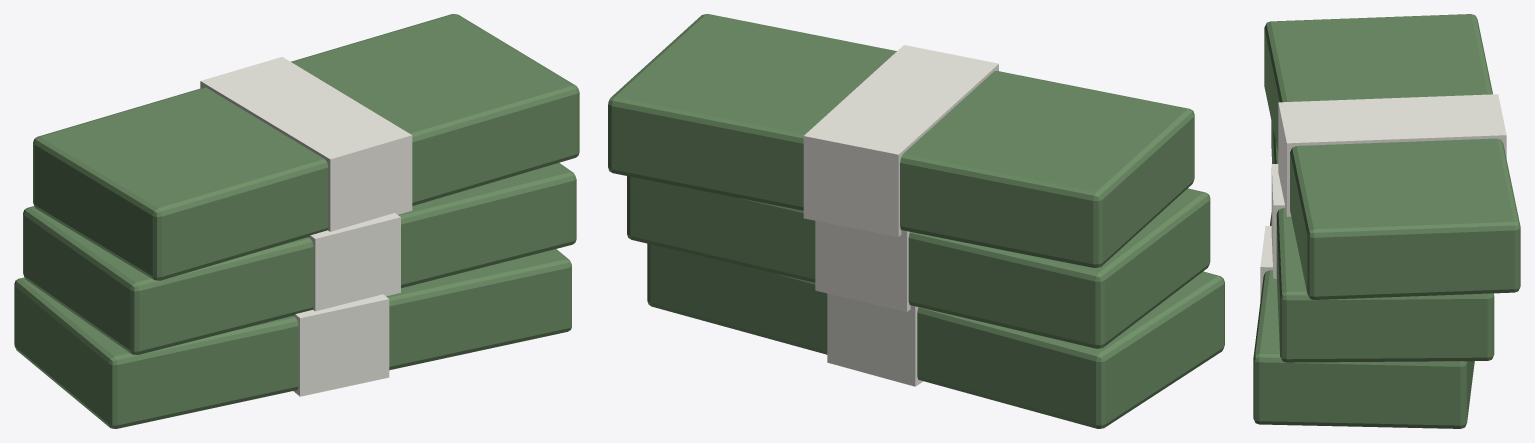
The model's file is Argent.fbx.
3 renders of one model, left to right at view 1: azimuth 30°, elevation 25°; view 2: azimuth 150°, elevation 25°; view 3: azimuth 270°, elevation 25°, orthographic. The views are drawn at different scales.
Visible parts, largest first — view 1: Argent_Stack2, Argent_Stack0, Argent_Stack1, Argent_Band2, Argent_Band0, Argent_Band1; view 2: Argent_Stack2, Argent_Stack1, Argent_Stack0, Argent_Band2, Argent_Band1, Argent_Band0; view 3: Argent_Stack2, Argent_Stack1, Argent_Stack0, Argent_Band2, Argent_Band1, Argent_Band0.
Boxes of the visible parts, x1,y1,x2,y2 form: Argent_Stack2: (33, 14, 579, 280); Argent_Stack0: (14, 249, 571, 428); Argent_Stack1: (23, 163, 576, 354); Argent_Band2: (200, 57, 412, 231); Argent_Band0: (293, 294, 389, 396); Argent_Band1: (308, 213, 400, 311); Argent_Stack2: (608, 14, 1194, 267); Argent_Stack1: (627, 176, 1210, 348); Argent_Stack0: (647, 243, 1224, 428); Argent_Band2: (803, 45, 998, 236); Argent_Band1: (815, 220, 910, 311); Argent_Band0: (827, 293, 923, 386); Argent_Stack2: (1264, 14, 1520, 299); Argent_Stack1: (1271, 121, 1494, 362); Argent_Stack0: (1253, 212, 1474, 428); Argent_Band2: (1278, 94, 1506, 216); Argent_Band1: (1271, 164, 1284, 278); Argent_Band0: (1260, 226, 1272, 300).
Bounding box in the file's own units: 0.1679 × 0.074 × 0.0824.
